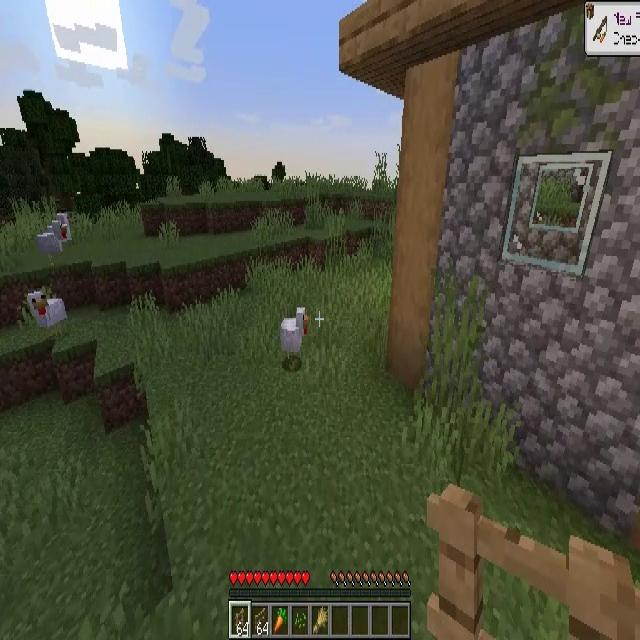duck: (28, 287, 68, 341), (38, 211, 72, 265), (280, 308, 310, 363)
